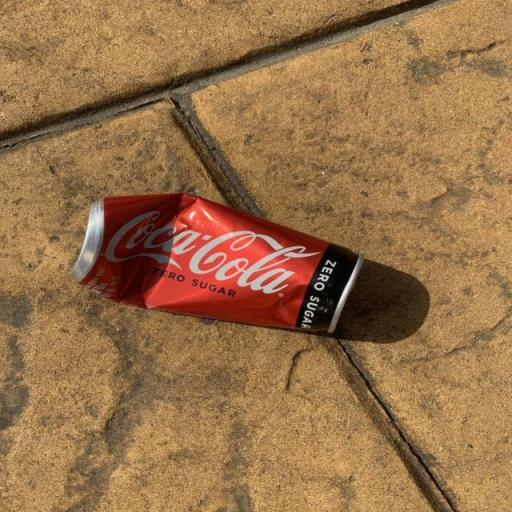metal: (34, 168, 388, 355)
